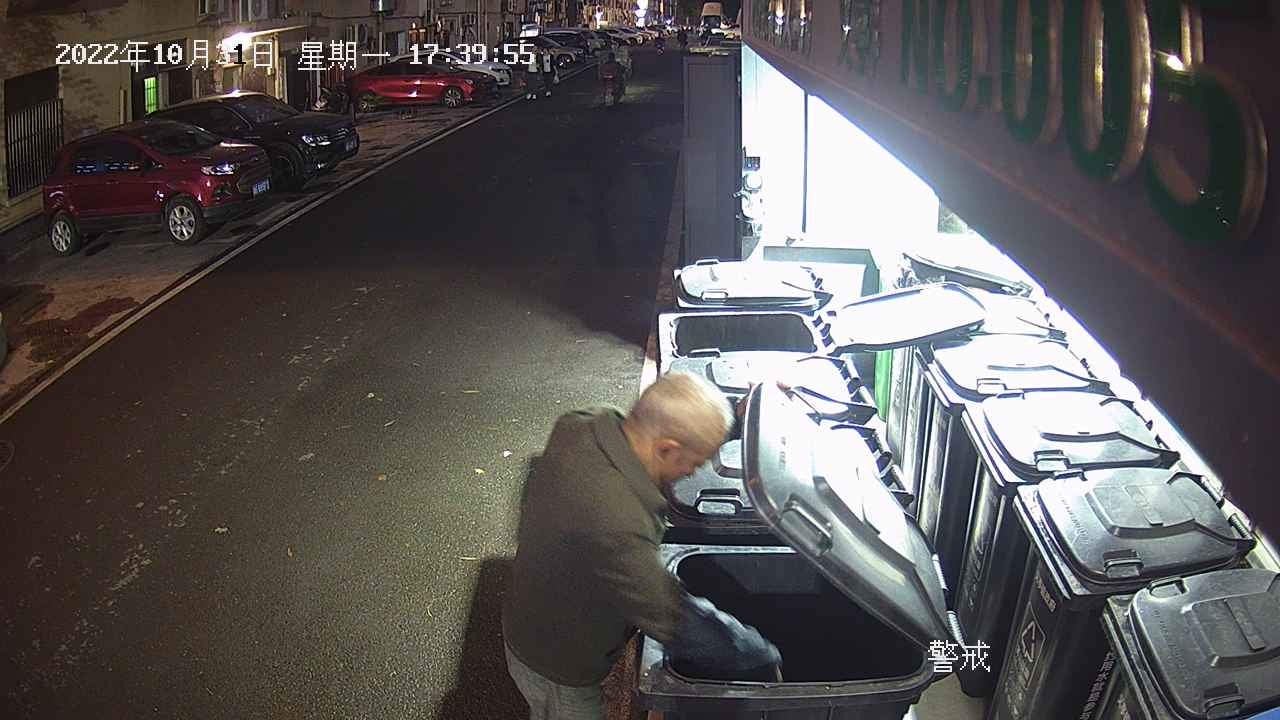person: (499, 366, 791, 720)
